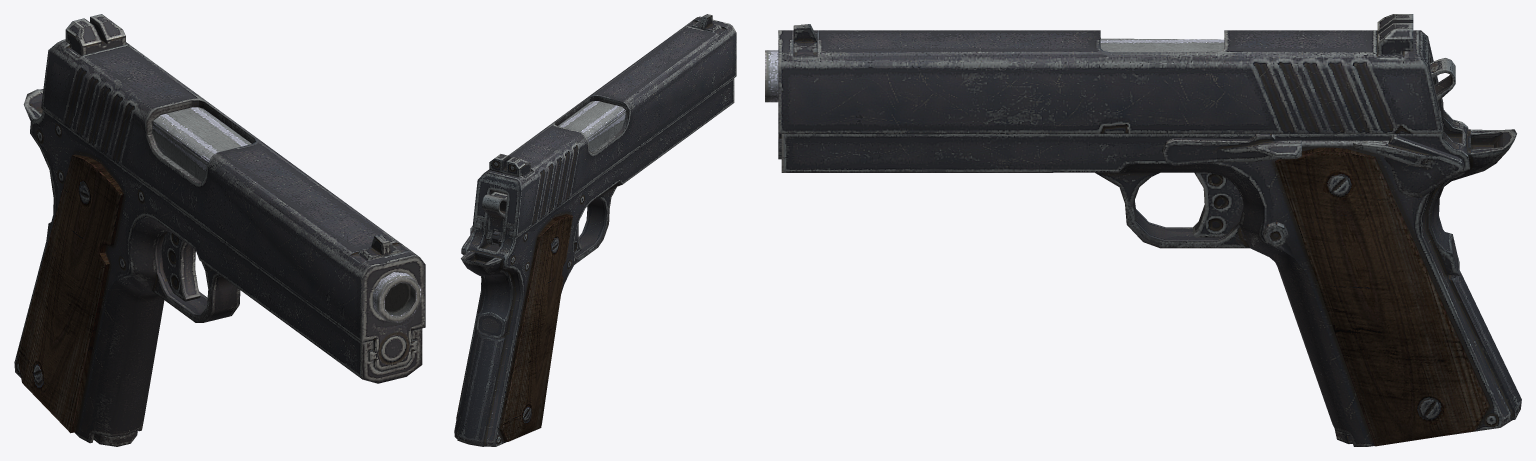
The model's file is Pistol.fbx.
The picture shows the model from 3 angles, left to right: view 1: azimuth 30°, elevation 25°; view 2: azimuth 150°, elevation 25°; view 3: azimuth 270°, elevation 25°; orthographic projection. The views are drawn at different scales.
Parts seen in each view (by area): view 1: base, slide, trigger, mag; view 2: base, slide, hammer; view 3: base, slide, trigger, hammer.
Boxes of the visible parts, box(x1,y1,x2,y2) form: base: box(14, 89, 422, 443); slide: box(41, 14, 425, 371); trigger: box(161, 231, 200, 301); mag: box(93, 430, 137, 446); base: box(454, 78, 734, 446); slide: box(472, 14, 736, 237); hammer: box(482, 191, 507, 246); base: box(765, 38, 1521, 446); slide: box(778, 14, 1443, 159); trigger: box(1193, 172, 1243, 237); hammer: box(1430, 58, 1455, 127).
Bounding box in the file's own units: 4.33 × 17.88 × 29.58.
1 material, 1 textured.
